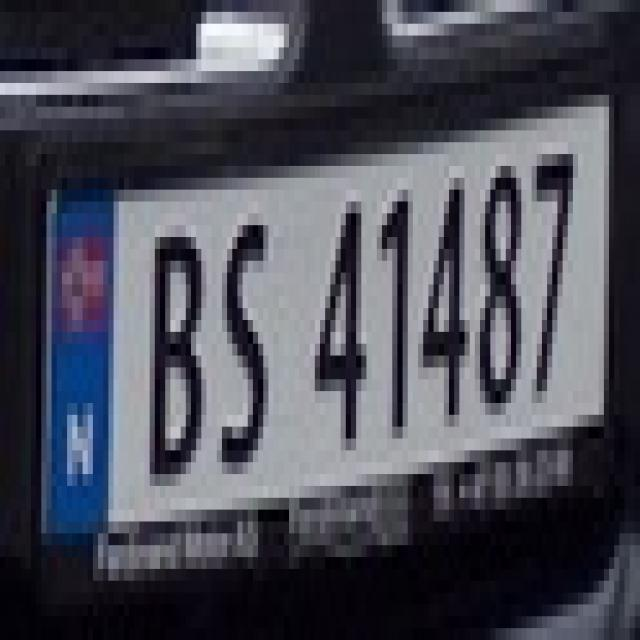LicensePlate: (26, 57, 633, 600)
